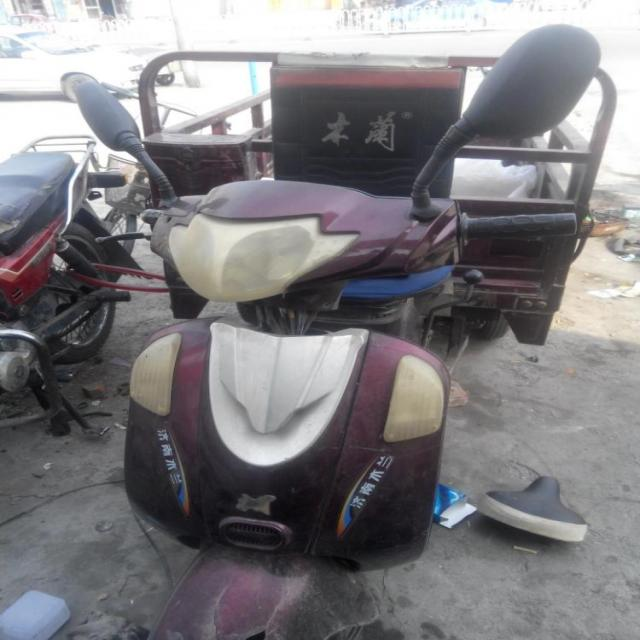car: (3, 23, 160, 100)
motorbike: (1, 133, 144, 440)
tricycle: (78, 23, 618, 639)
